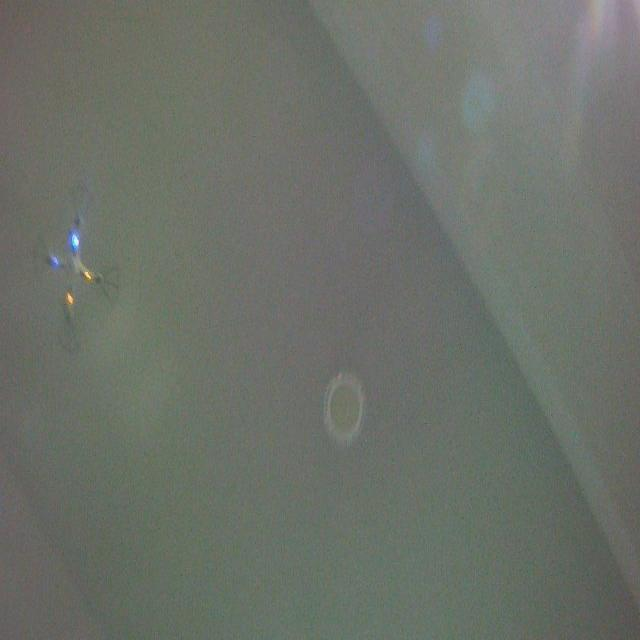drone: (29, 182, 125, 358)
